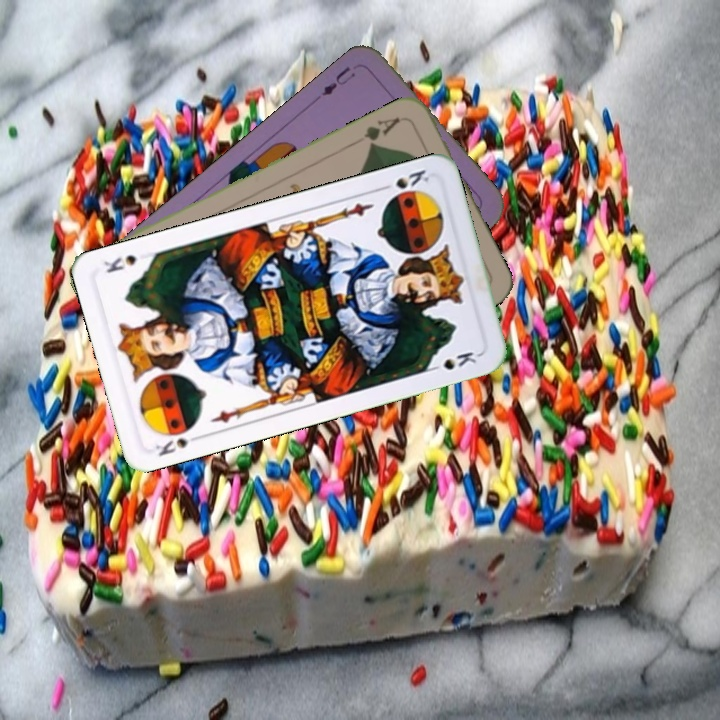EU: (317, 62, 359, 99)
GA: (359, 113, 403, 151)
SK: (375, 165, 432, 194), (150, 430, 205, 459)
